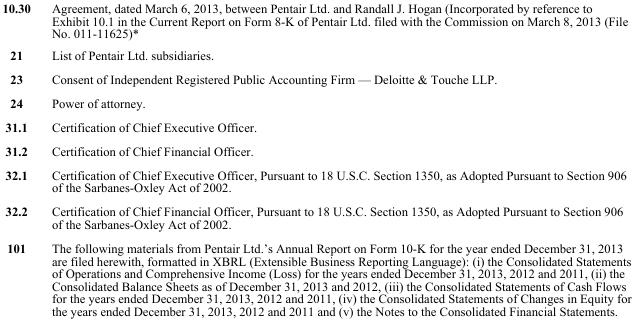table: (1, 0, 630, 317)
table column: (40, 0, 630, 317), (1, 0, 40, 317)
table row: (1, 235, 630, 317), (1, 0, 630, 43), (1, 162, 630, 199), (1, 199, 630, 235), (1, 66, 630, 90), (1, 90, 630, 114), (1, 114, 630, 138), (1, 138, 630, 162), (1, 43, 630, 66)
